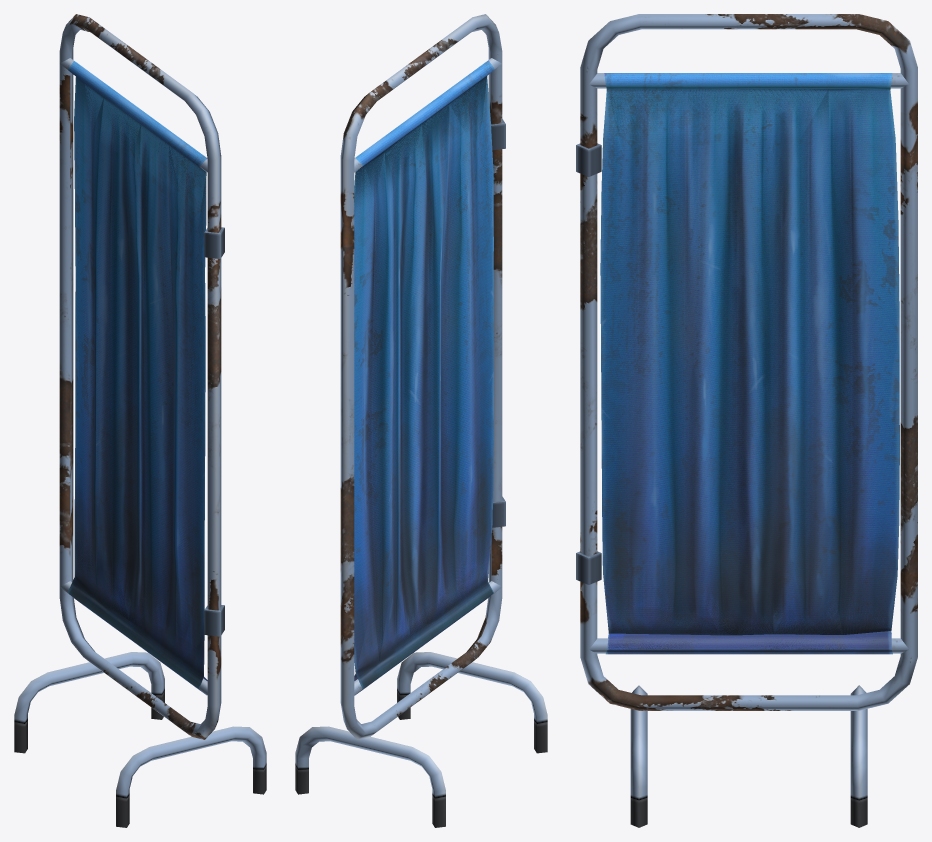
The model's file is hospitalScreen.FBX.
3 renders of one model, left to right at view 1: azimuth 30°, elevation 25°; view 2: azimuth 150°, elevation 25°; view 3: azimuth 270°, elevation 25°, orthographic. The views are drawn at different scales.
Parts seen in each view (by area): view 1: hospitalScreen01; view 2: hospitalScreen01; view 3: hospitalScreen01.
Part boxes in pixels (<box>): hospitalScreen01: <box>14,14,266,827</box>; hospitalScreen01: <box>295,14,547,827</box>; hospitalScreen01: <box>576,14,917,827</box>.
Bounding box in the file's own units: 44 × 200 × 80.
